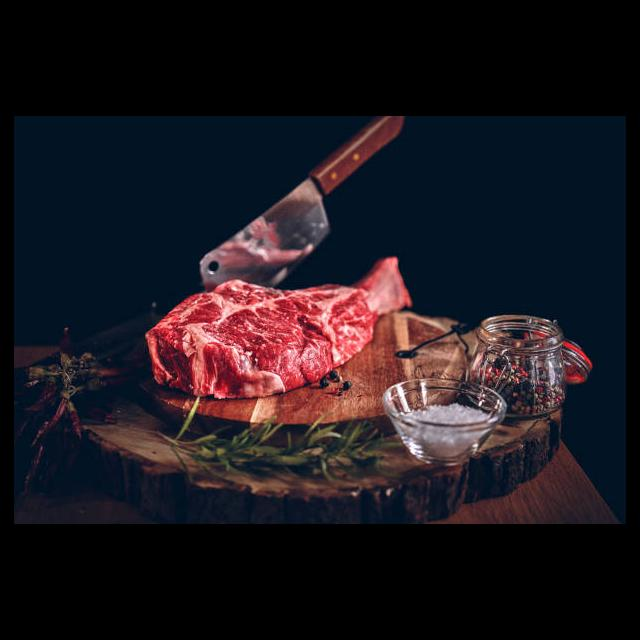beef: (141, 255, 377, 402)
